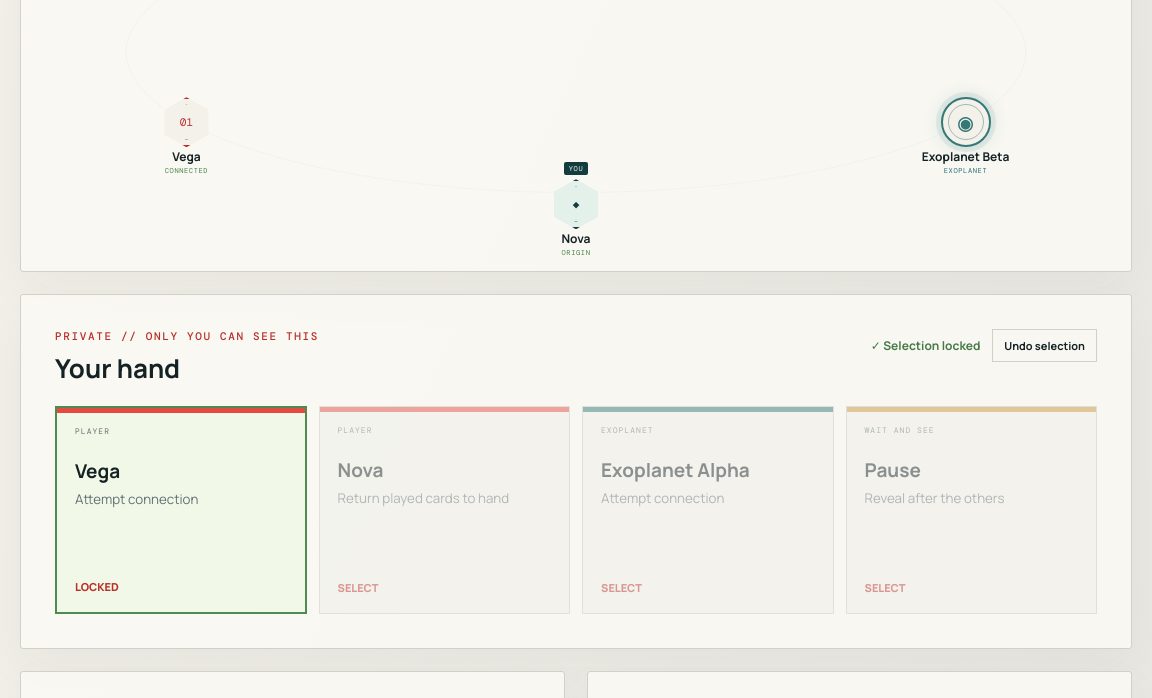
Test case: player app › disables undo while pending and while offline
(page scrolled)
What coordinates should you click on to do the following:
click the button "Undo selection"
I would click on:
 (1045, 346)
Its box is [992, 329, 1097, 362].
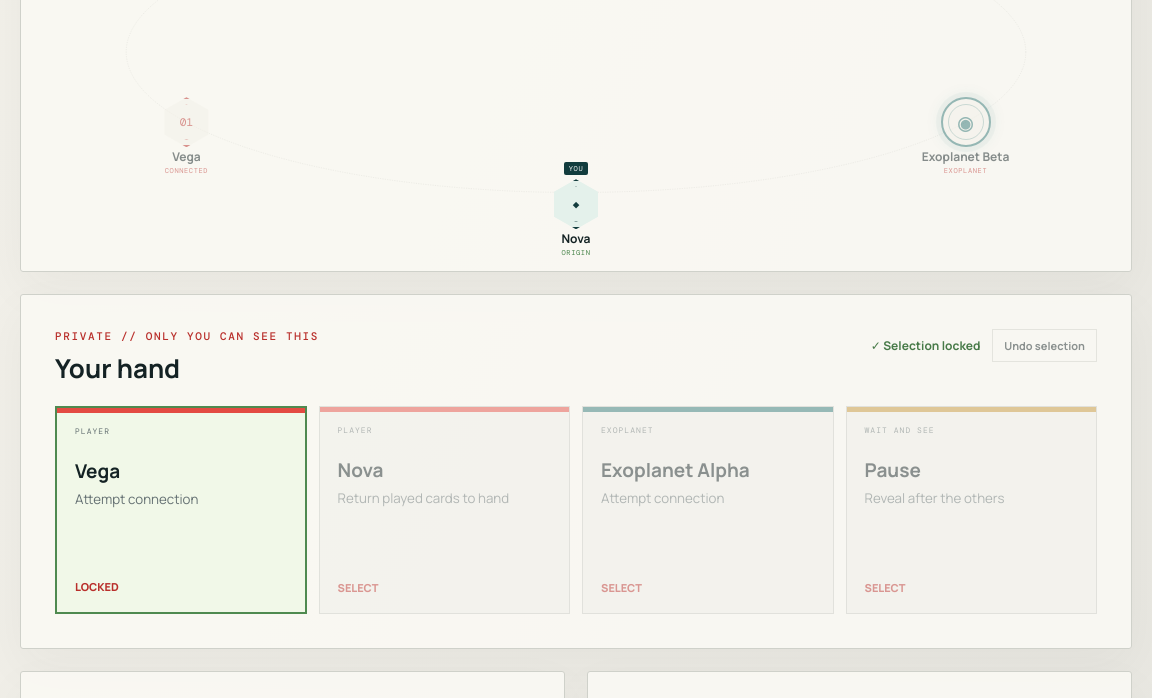
expect the button named "Undoing…" is disabled: met, box [992, 329, 1097, 362]
expect the button "Undo selection" is disabled: met, box [992, 329, 1097, 362]
